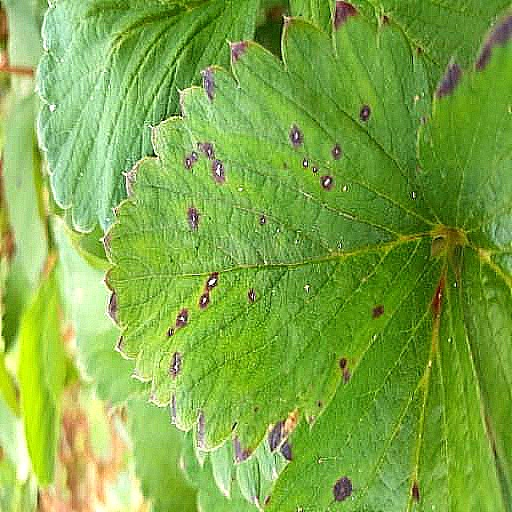Leaf Spot: (67, 47, 413, 511), (5, 0, 249, 268)
